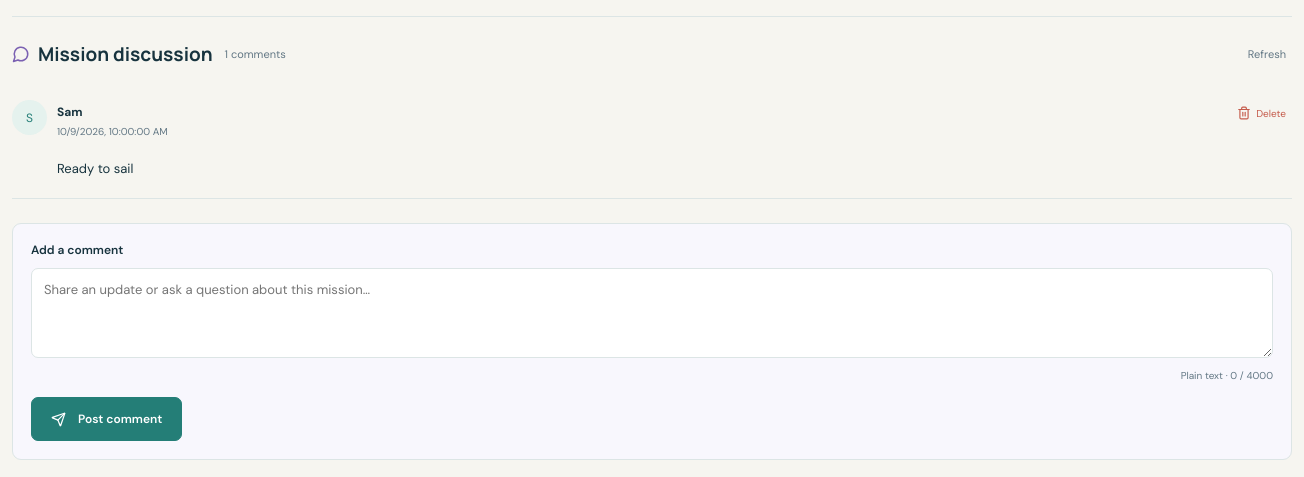
Test: Mission discussion › allows moderation without editing and confirms deletion
The image size is (1304, 477).
Click the button with aria-label "Delete comment by Sam" at coordinates (1262, 113), box [1231,100,1292,126]
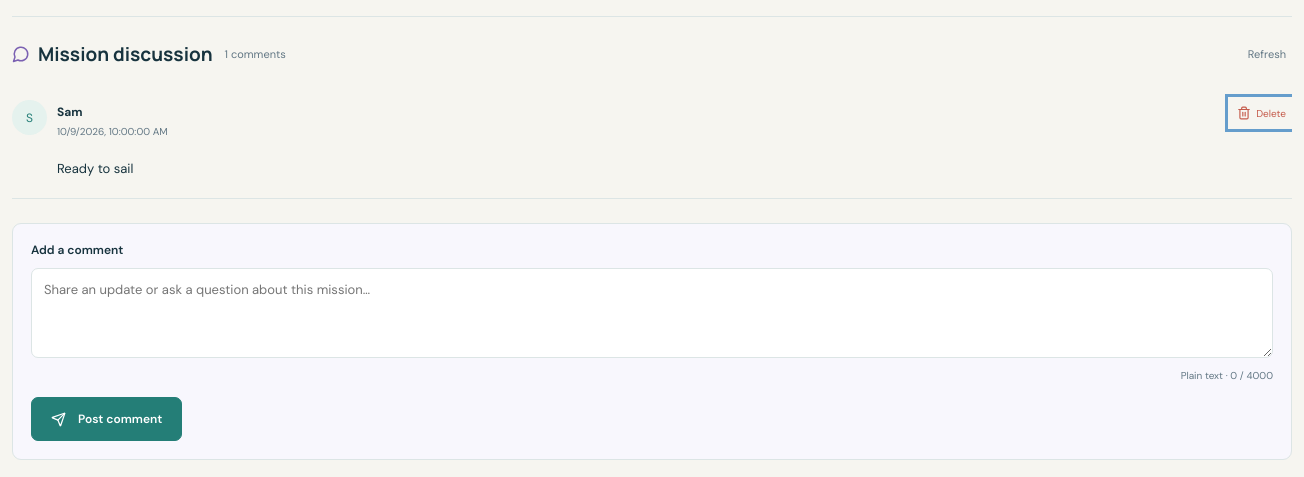
Click the button with aria-label "Delete comment by Sam" at coordinates (1262, 113), box [1231,100,1292,126]
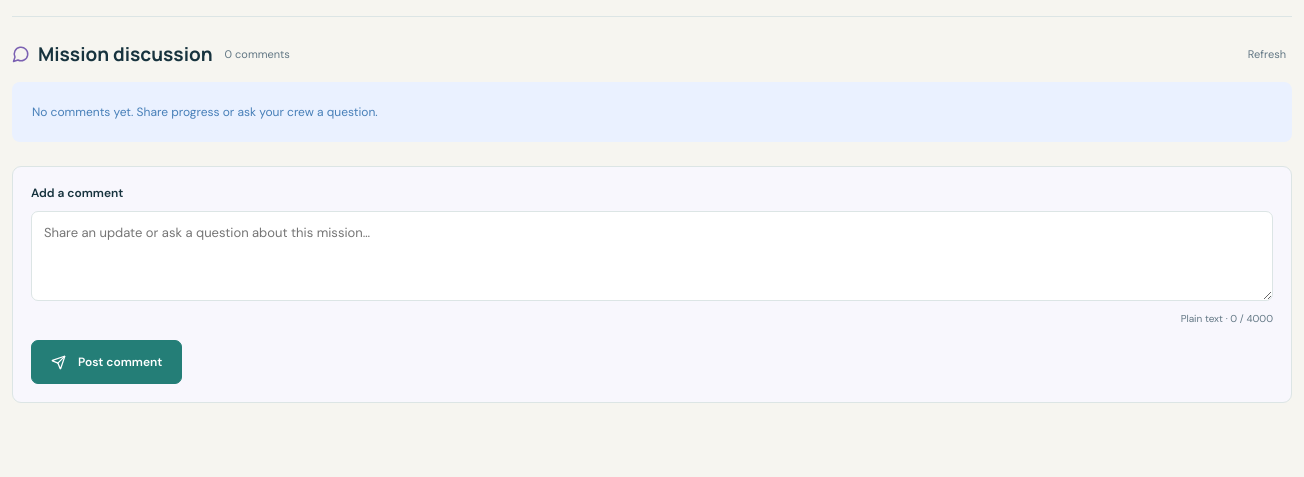
Result: the text "No comments yet. Share progress or ask your crew a question." is shown at [12,82,1292,142]
